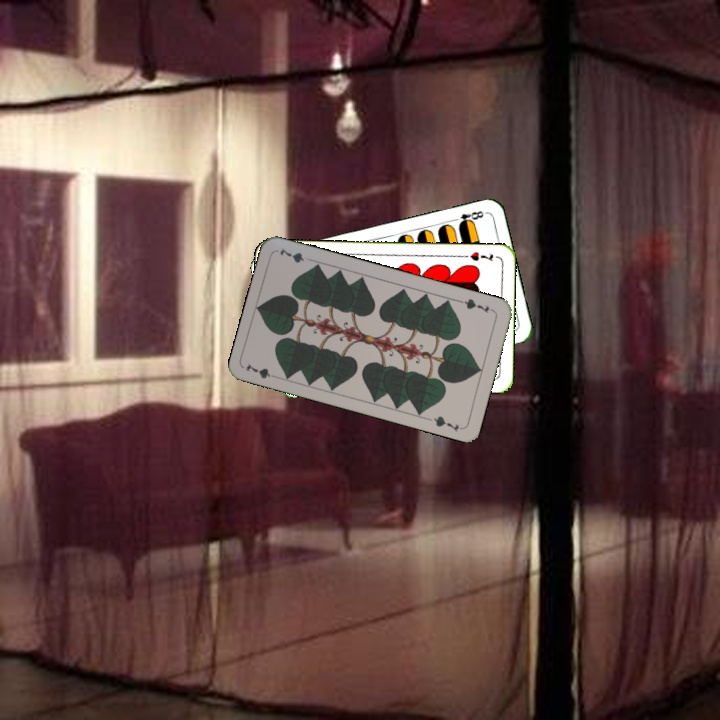E8: (448, 207, 486, 228)
G7: (242, 359, 282, 381), (456, 295, 496, 315)
H7: (458, 248, 496, 264)
